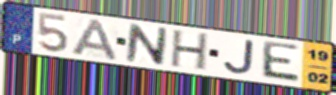5: (36, 11, 71, 54)
A: (70, 18, 120, 62)
E: (259, 40, 303, 85)
H: (168, 29, 211, 72)
J: (222, 38, 257, 75)
N: (124, 22, 170, 68)
